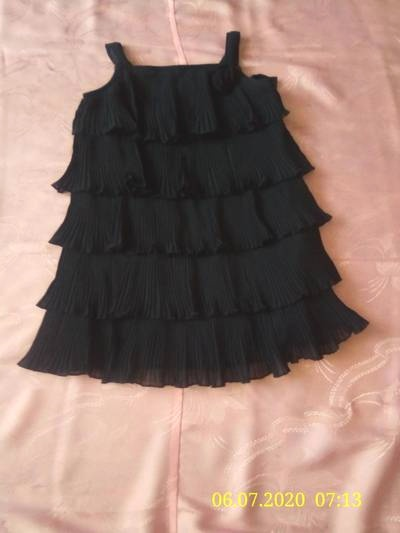Dress: (33, 34, 368, 401)
